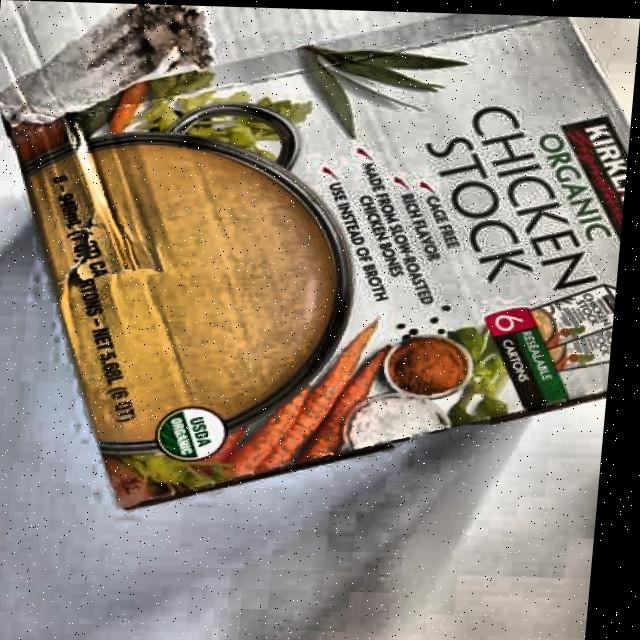cardboard: (0, 0, 640, 525)
